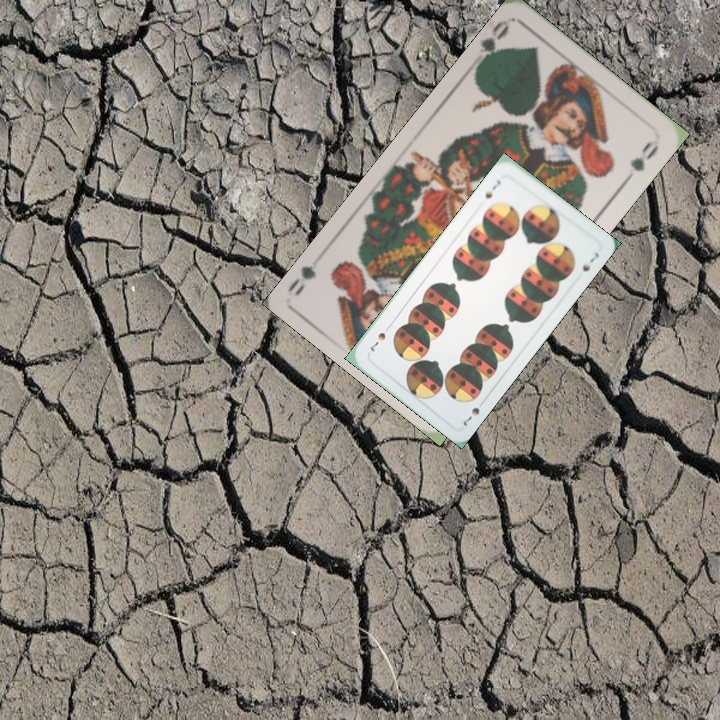GO: (472, 16, 512, 71)
S7: (459, 403, 482, 429), (481, 175, 503, 201)
